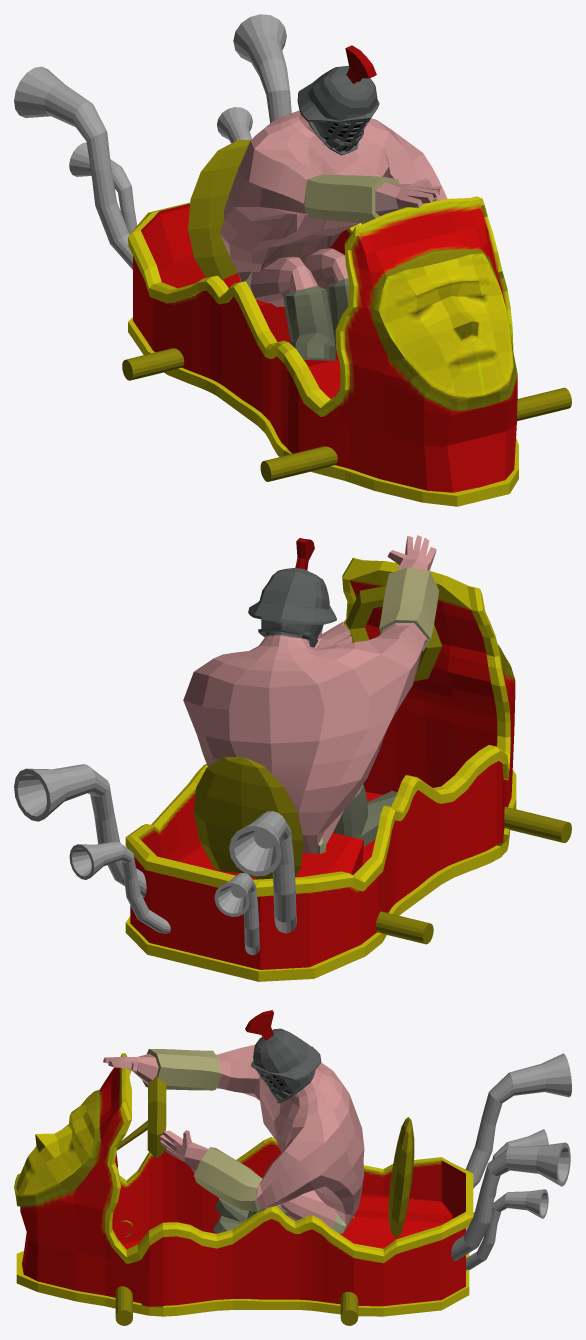
File: gladiVacile_000525.obj
The picture shows the model from 3 angles, top to bottom: view 1: azimuth 30°, elevation 25°; view 2: azimuth 150°, elevation 25°; view 3: azimuth 270°, elevation 25°; orthographic projection. The views are drawn at different scales.
Visible parts, largest first — view 1: GladiChasis_GladiChasisH, Gadiador_Gladiador_H.001, GladiTubos_GladiTubosH, GladiVolante_GladiVolanteH; view 2: GladiChasis_GladiChasisH, Gadiador_Gladiador_H.001, GladiTubos_GladiTubosH, GladiVolante_GladiVolanteH; view 3: GladiChasis_GladiChasisH, Gadiador_Gladiador_H.001, GladiTubos_GladiTubosH, GladiVolante_GladiVolanteH.
Part boxes in pixels (box(x1,y1,x2,y2)): GladiChasis_GladiChasisH: box(128, 196, 518, 506); Gadiador_Gladiador_H.001: box(220, 45, 447, 360); GladiTubos_GladiTubosH: box(14, 14, 291, 269); GladiVolante_GladiVolanteH: box(122, 139, 571, 481); GladiChasis_GladiChasisH: box(125, 557, 516, 981); Gadiador_Gladiador_H.001: box(183, 535, 439, 853); GladiTubos_GladiTubosH: box(14, 764, 296, 955); GladiVolante_GladiVolanteH: box(193, 586, 571, 944); GladiChasis_GladiChasisH: box(14, 1053, 473, 1316); Gadiador_Gladiador_H.001: box(103, 1010, 364, 1233); GladiTubos_GladiTubosH: box(451, 1053, 571, 1270); GladiVolante_GladiVolanteH: box(115, 1076, 414, 1325).
Bounding box in the file's own units: 5.46 × 5.77 × 10.78.
